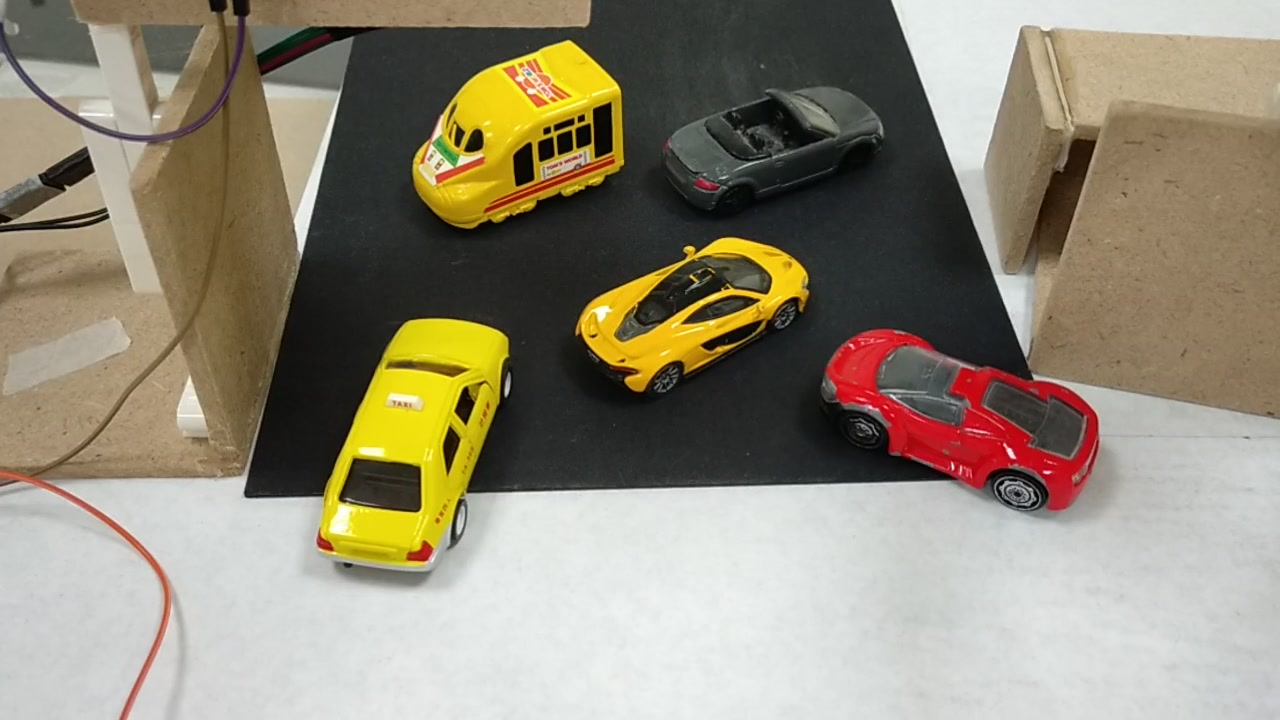car: (816, 325, 1102, 515), (308, 331, 512, 567), (570, 234, 817, 397), (657, 80, 881, 199)
